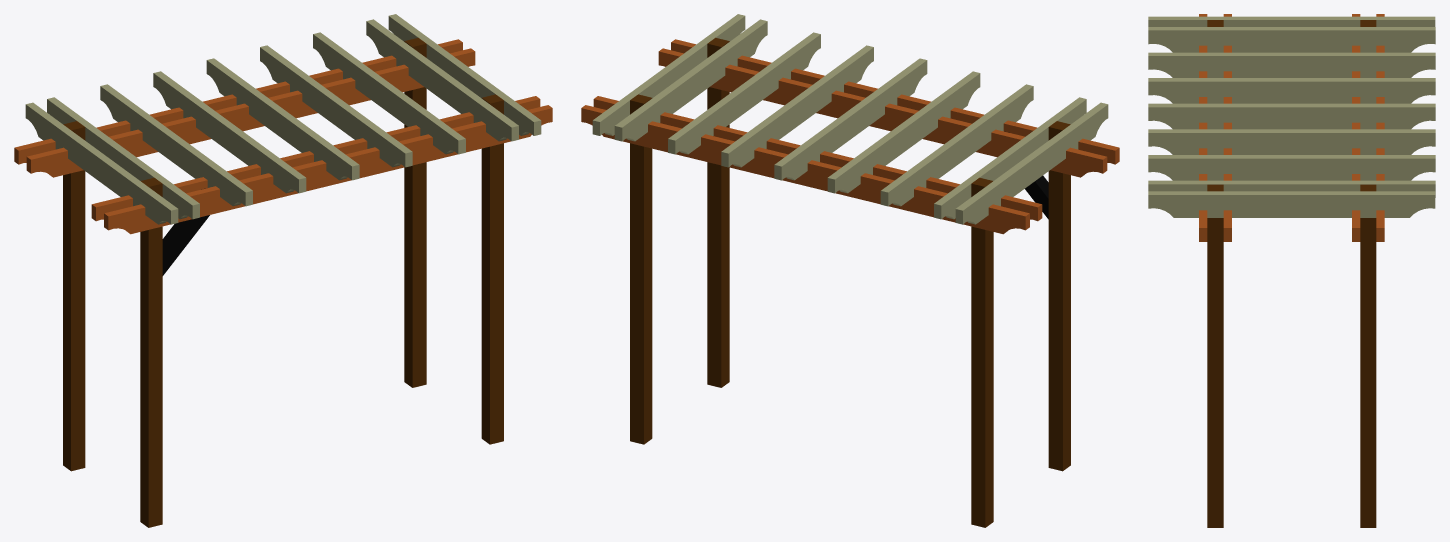
File: Pergola.glb
3 renders of one model, left to right at view 1: azimuth 30°, elevation 25°; view 2: azimuth 150°, elevation 25°; view 3: azimuth 270°, elevation 25°, orthographic.
Visible parts, largest first — view 1: Belki Wsz Wew, Filary T, Belki Wzd T, Belki Wsze Zewn, Miecz1; view 2: Belki Wsz Wew, Filary T, Belki Wzd T, Belki Wsze Zewn; view 3: Belki Wsz Wew, Filary T, Belki Wsze Zewn, Belki Wzd T.
Boxes of the visible parts, x1=… form: Belki Wsz Wew: x1=47, y1=19, x2=518, y2=219; Filary T: x1=63, y1=37, x2=503, y2=527; Belki Wzd T: x1=14, y1=39, x2=552, y2=234; Belki Wsze Zewn: x1=25, y1=14, x2=541, y2=224; Miecz1: x1=162, y1=188, x2=209, y2=275; Belki Wsz Wew: x1=614, y1=19, x2=1086, y2=219; Filary T: x1=630, y1=37, x2=1070, y2=527; Belki Wzd T: x1=581, y1=39, x2=1119, y2=234; Belki Wsze Zewn: x1=592, y1=14, x2=1108, y2=224; Belki Wsz Wew: x1=1148, y1=27, x2=1435, y2=197; Filary T: x1=1207, y1=20, x2=1376, y2=527; Belki Wsze Zewn: x1=1148, y1=16, x2=1435, y2=217; Belki Wzd T: x1=1199, y1=14, x2=1384, y2=241.
Size of the model in its own units: 3 by 2.2 by 1.7.
